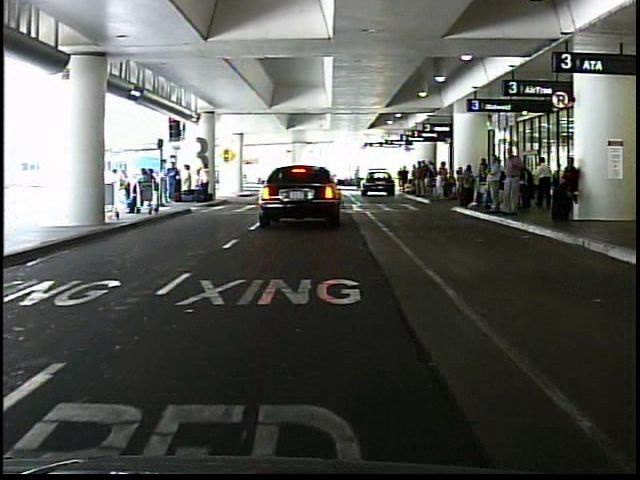person: (498, 141, 527, 221), (552, 151, 582, 226), (531, 153, 554, 212), (484, 152, 503, 212), (112, 160, 132, 217), (167, 155, 182, 203), (197, 158, 212, 200), (182, 161, 196, 201)
